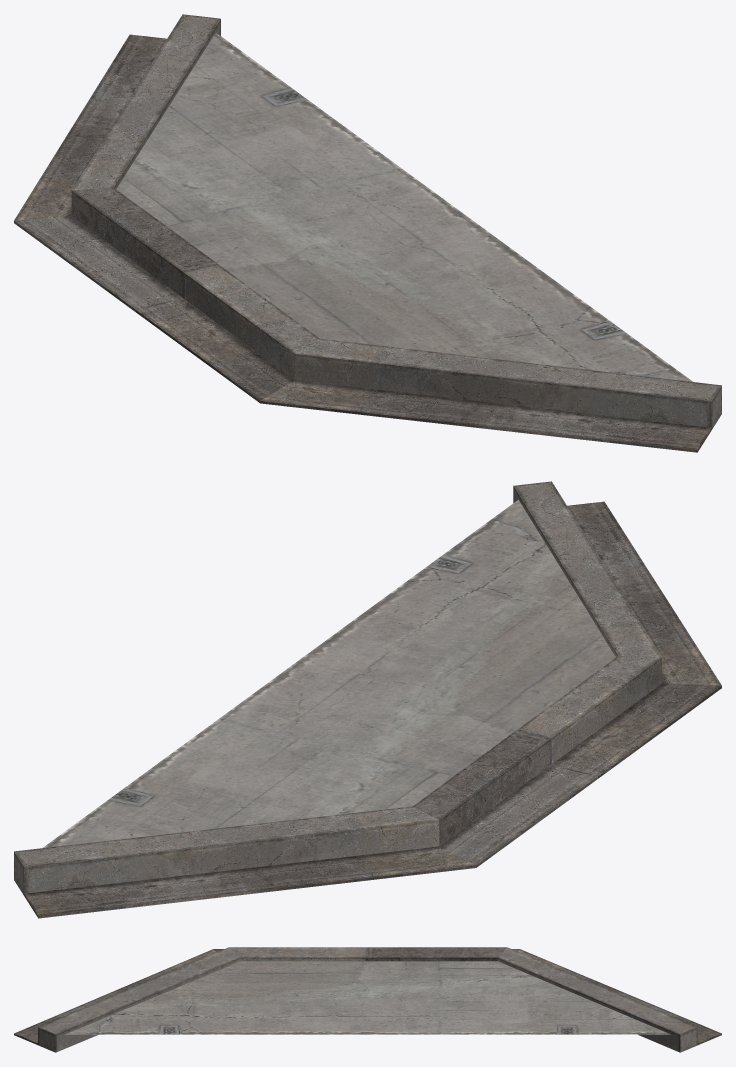
File: CP_Sidewalk_Refuge_01.fbx
3 renders of one model, top to bottom at view 1: azimuth 30°, elevation 25°; view 2: azimuth 150°, elevation 25°; view 3: azimuth 270°, elevation 25°, orthographic. The views are drawn at different scales.
Visible parts, largest first — view 1: CP_Sidewalk_Refuge_01; view 2: CP_Sidewalk_Refuge_01; view 3: CP_Sidewalk_Refuge_01.
Boxes of the visible parts, x1,y1,x2,y2 form: CP_Sidewalk_Refuge_01: [14, 14, 721, 452]; CP_Sidewalk_Refuge_01: [14, 481, 721, 918]; CP_Sidewalk_Refuge_01: [14, 947, 721, 1052].
Size of the model in its own units: 156 by 12.77 by 456.
